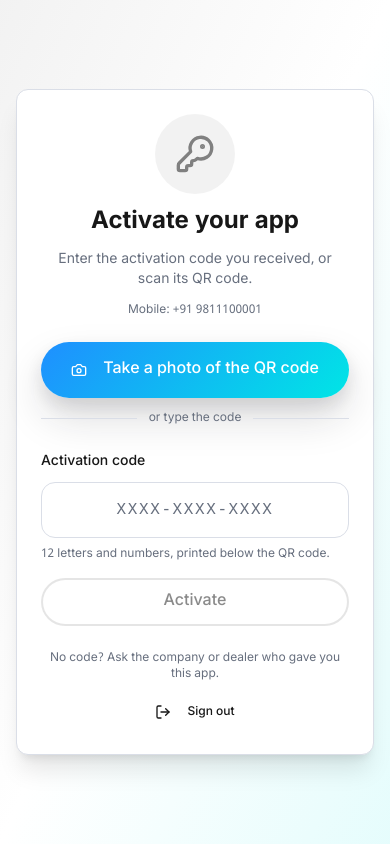
Scenario: Activate › explains a refusal (activation_used) and stays on the screen
Expected: the button "Activate" is shown, [41,578,349,626]
In the field labelled "Activation code": (195, 510) [41,482,349,538], type "7K2M-9PQR-4T8X"
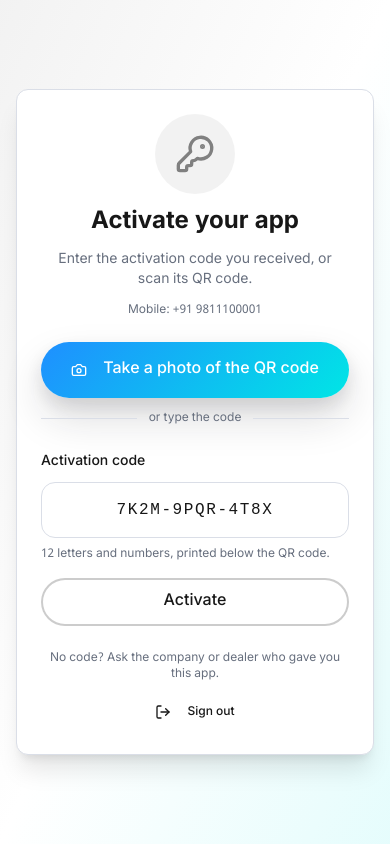
Result: the button "Activate" is enabled
Click the button "Activate": (195, 602) [41,578,349,626]
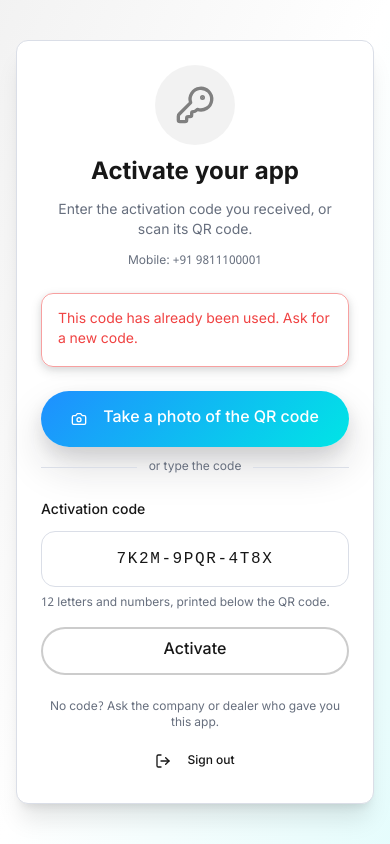
Result: the message reads "This code has already been used. Ask for a new code." at [58,310,330,349]
